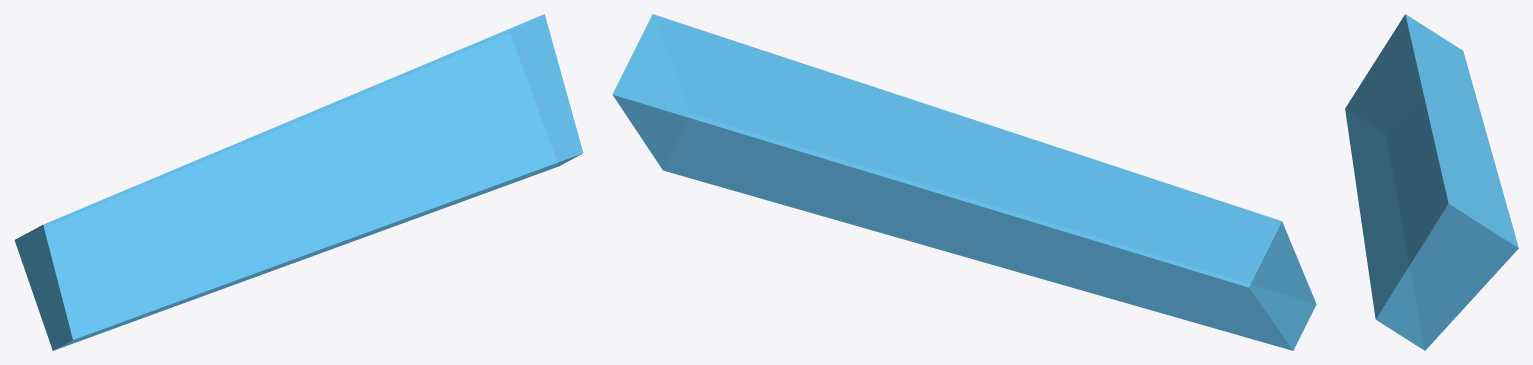
The model's file is Event_420094457_HErechit_93.fbx.
3 views of the same model, side by side, from view 1: azimuth 30°, elevation 25°; view 2: azimuth 150°, elevation 25°; view 3: azimuth 270°, elevation 25° (orthographic). The views are drawn at different scales.
Parts seen in each view (by area): view 1: Model; view 2: Model; view 3: Model.
Part boxes in pixels (x1,y1,x2,y2): Model: [14, 14, 583, 350]; Model: [612, 14, 1316, 350]; Model: [1345, 14, 1518, 350].
Bounding box in the file's own units: 2.38 × 0.8061 × 0.6742.
